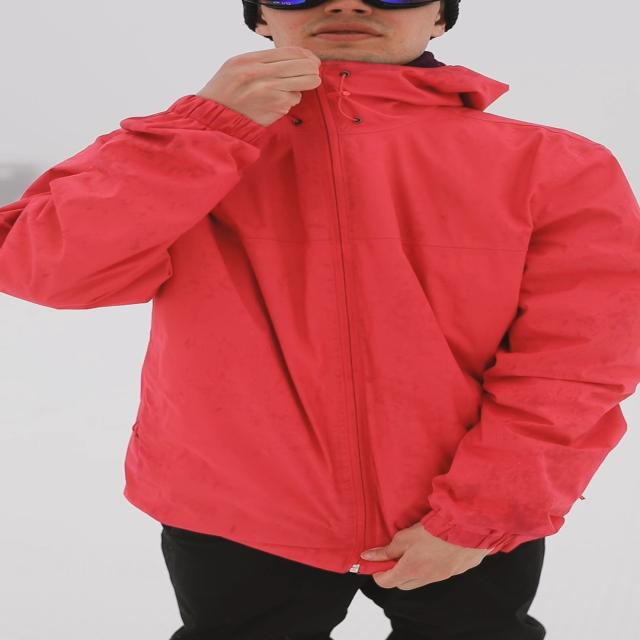Jacket_Wearer: (0, 46, 640, 551)
Person: (0, 0, 640, 634)
